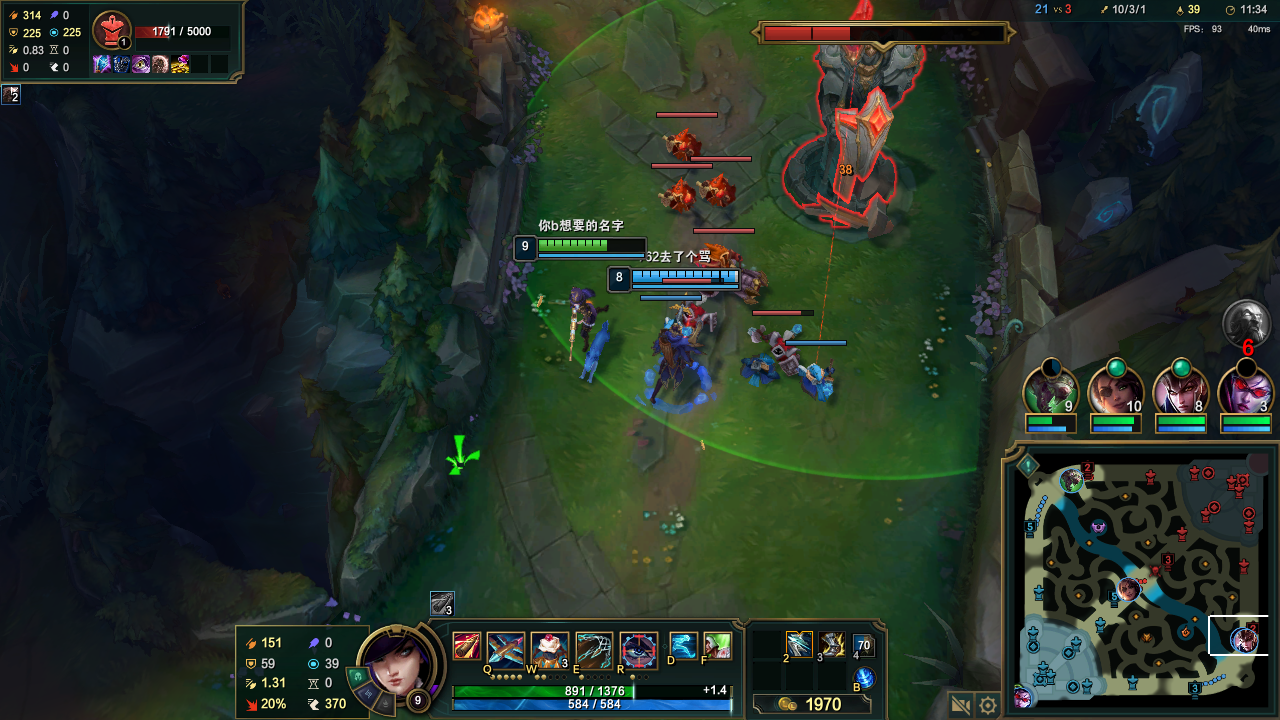DFFYT: (761, 24, 934, 231)
DFXB: (690, 243, 762, 300), (759, 325, 798, 362), (679, 300, 712, 331), (660, 179, 692, 208), (707, 175, 736, 200), (666, 137, 702, 157)
WFXB: (790, 364, 835, 395)
